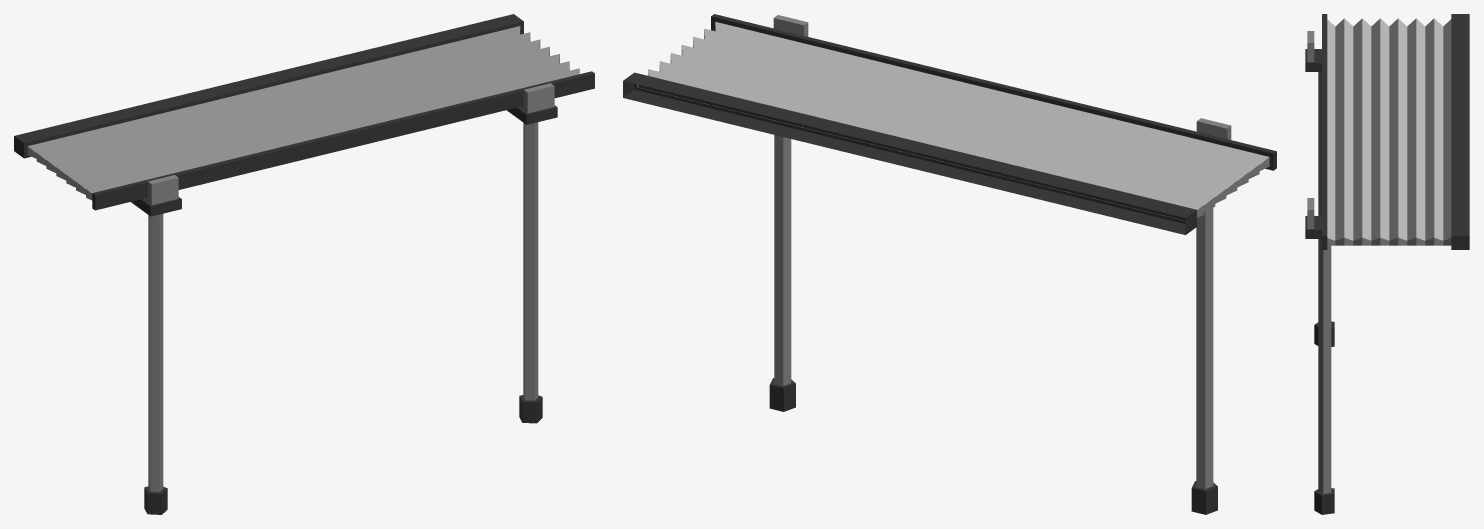
The model's file is Awning_B_01.FBX.
3 renders of one model, left to right at view 1: azimuth 30°, elevation 25°; view 2: azimuth 150°, elevation 25°; view 3: azimuth 270°, elevation 25°, orthographic. The views are drawn at different scales.
Visible parts, largest first — view 1: Awning_B_01; view 2: Awning_B_01; view 3: Awning_B_01.
Boxes of the visible parts, x1,y1,x2,y2 form: Awning_B_01: [14, 14, 594, 514]; Awning_B_01: [623, 14, 1276, 514]; Awning_B_01: [1305, 14, 1469, 514].
Size of the model in its own units: 4.97 by 3.2 by 1.56.
